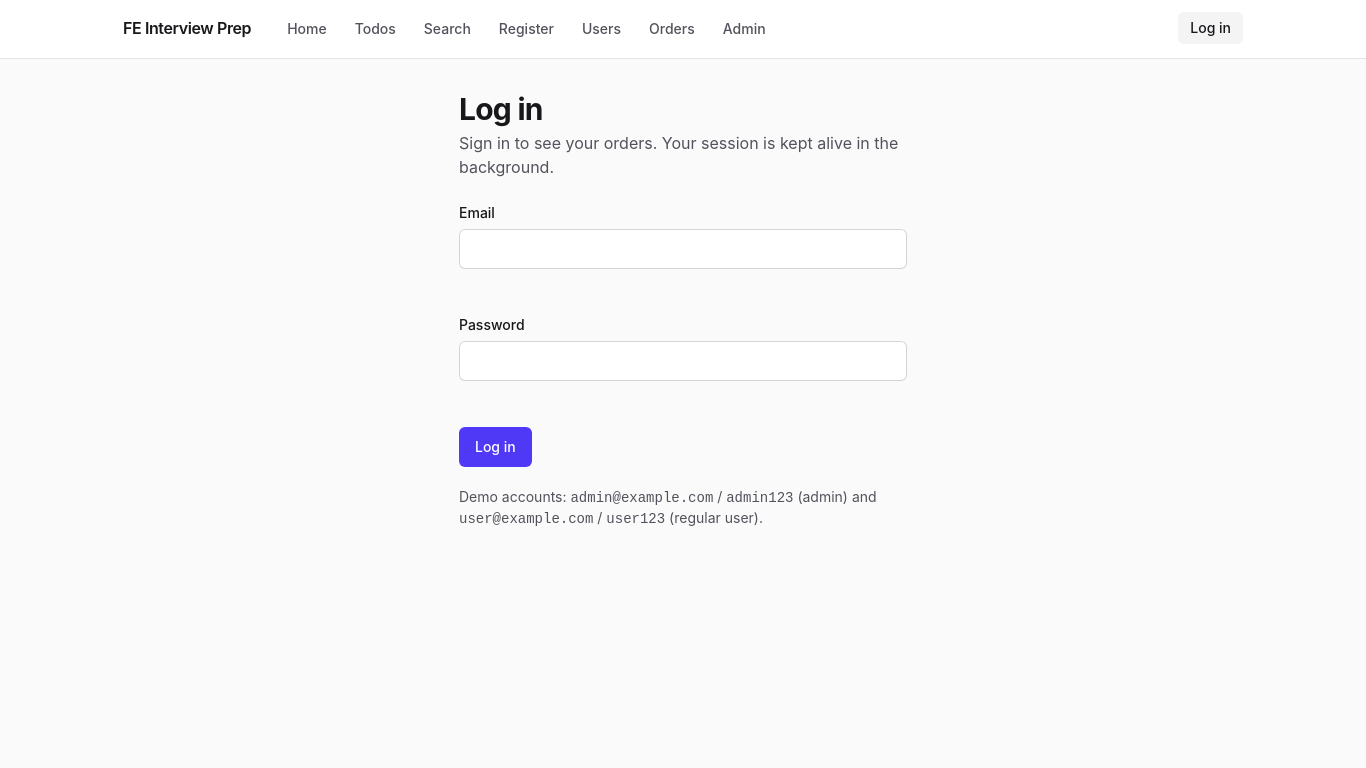
Scenario: LoginPage › honours a redirectTo search param
This screenshot has width=1366, height=768.
Check: the heading "Log in" is shown, box [459,91,543,127]
Step 1. Type "admin@example.com" into the field labelled "Email" → (683, 249), box [459,229,907,269]
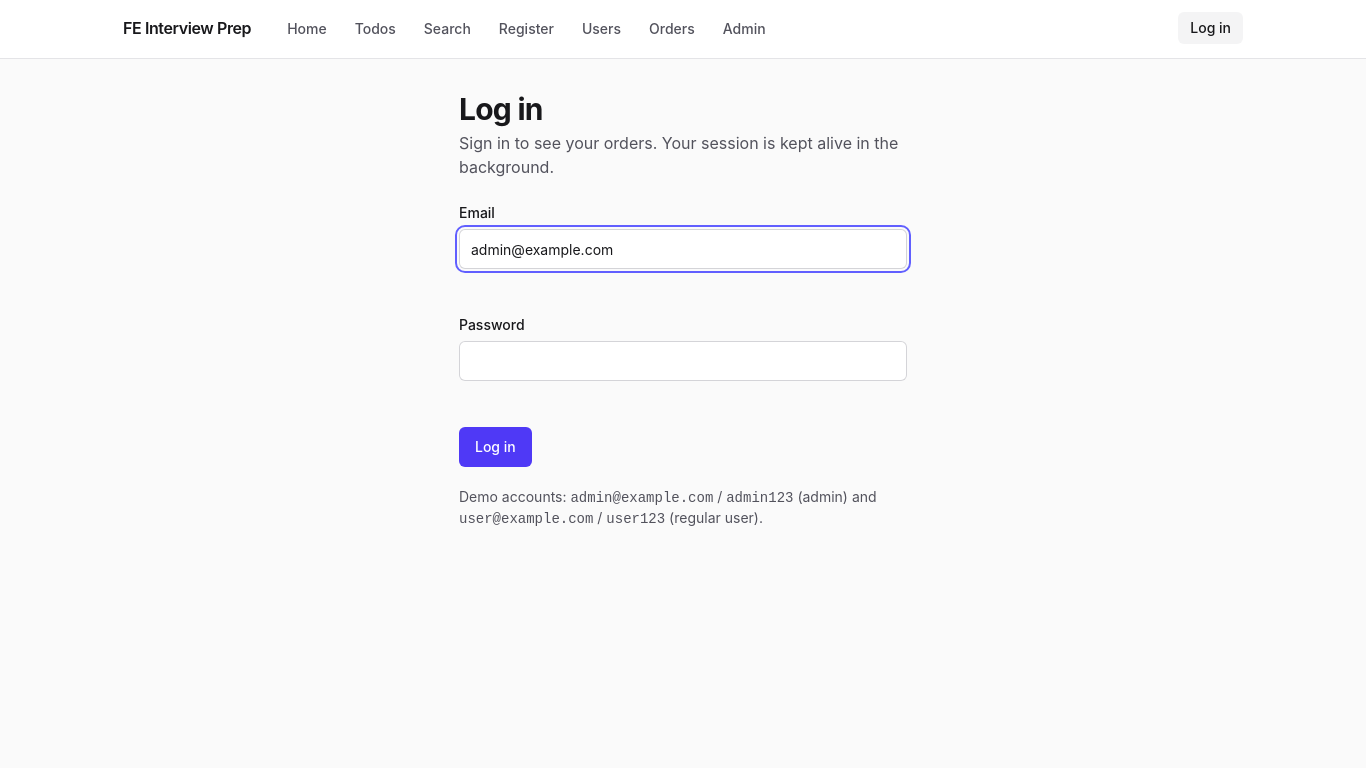
Step 2. Type "admin123" into the password field labelled "Password" → (683, 361), box [459,341,907,381]
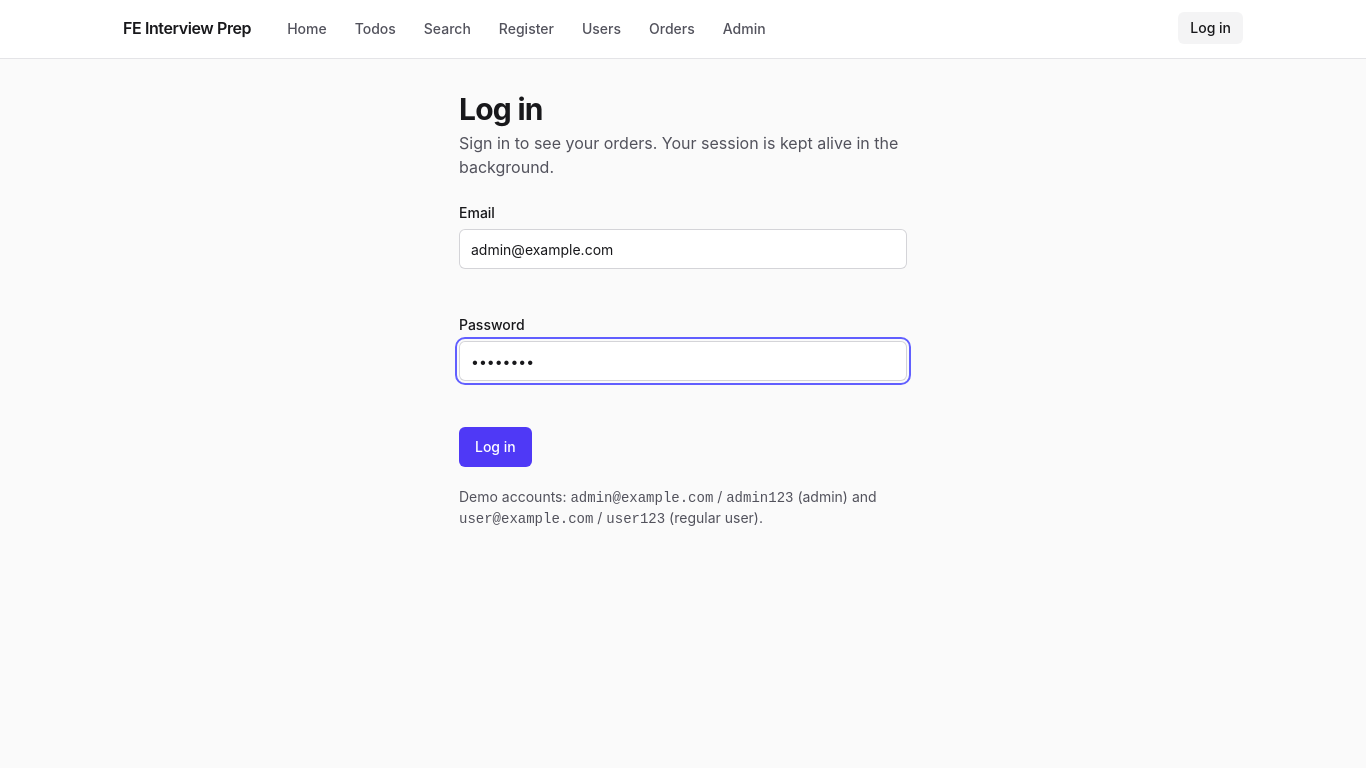
Step 3. Click the button "Log in" → (495, 447), box [459,427,532,467]
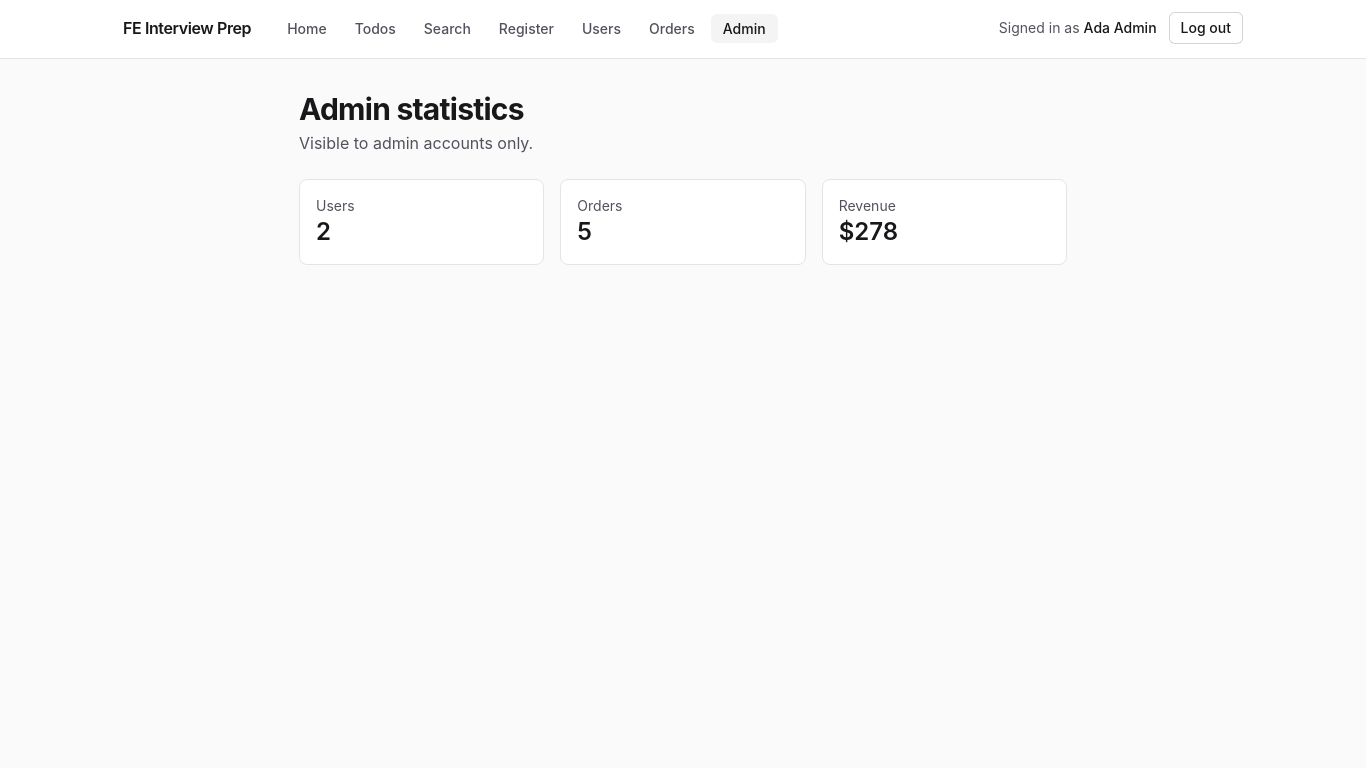
Check: the heading "Admin statistics" is shown, box [299,91,524,127]
